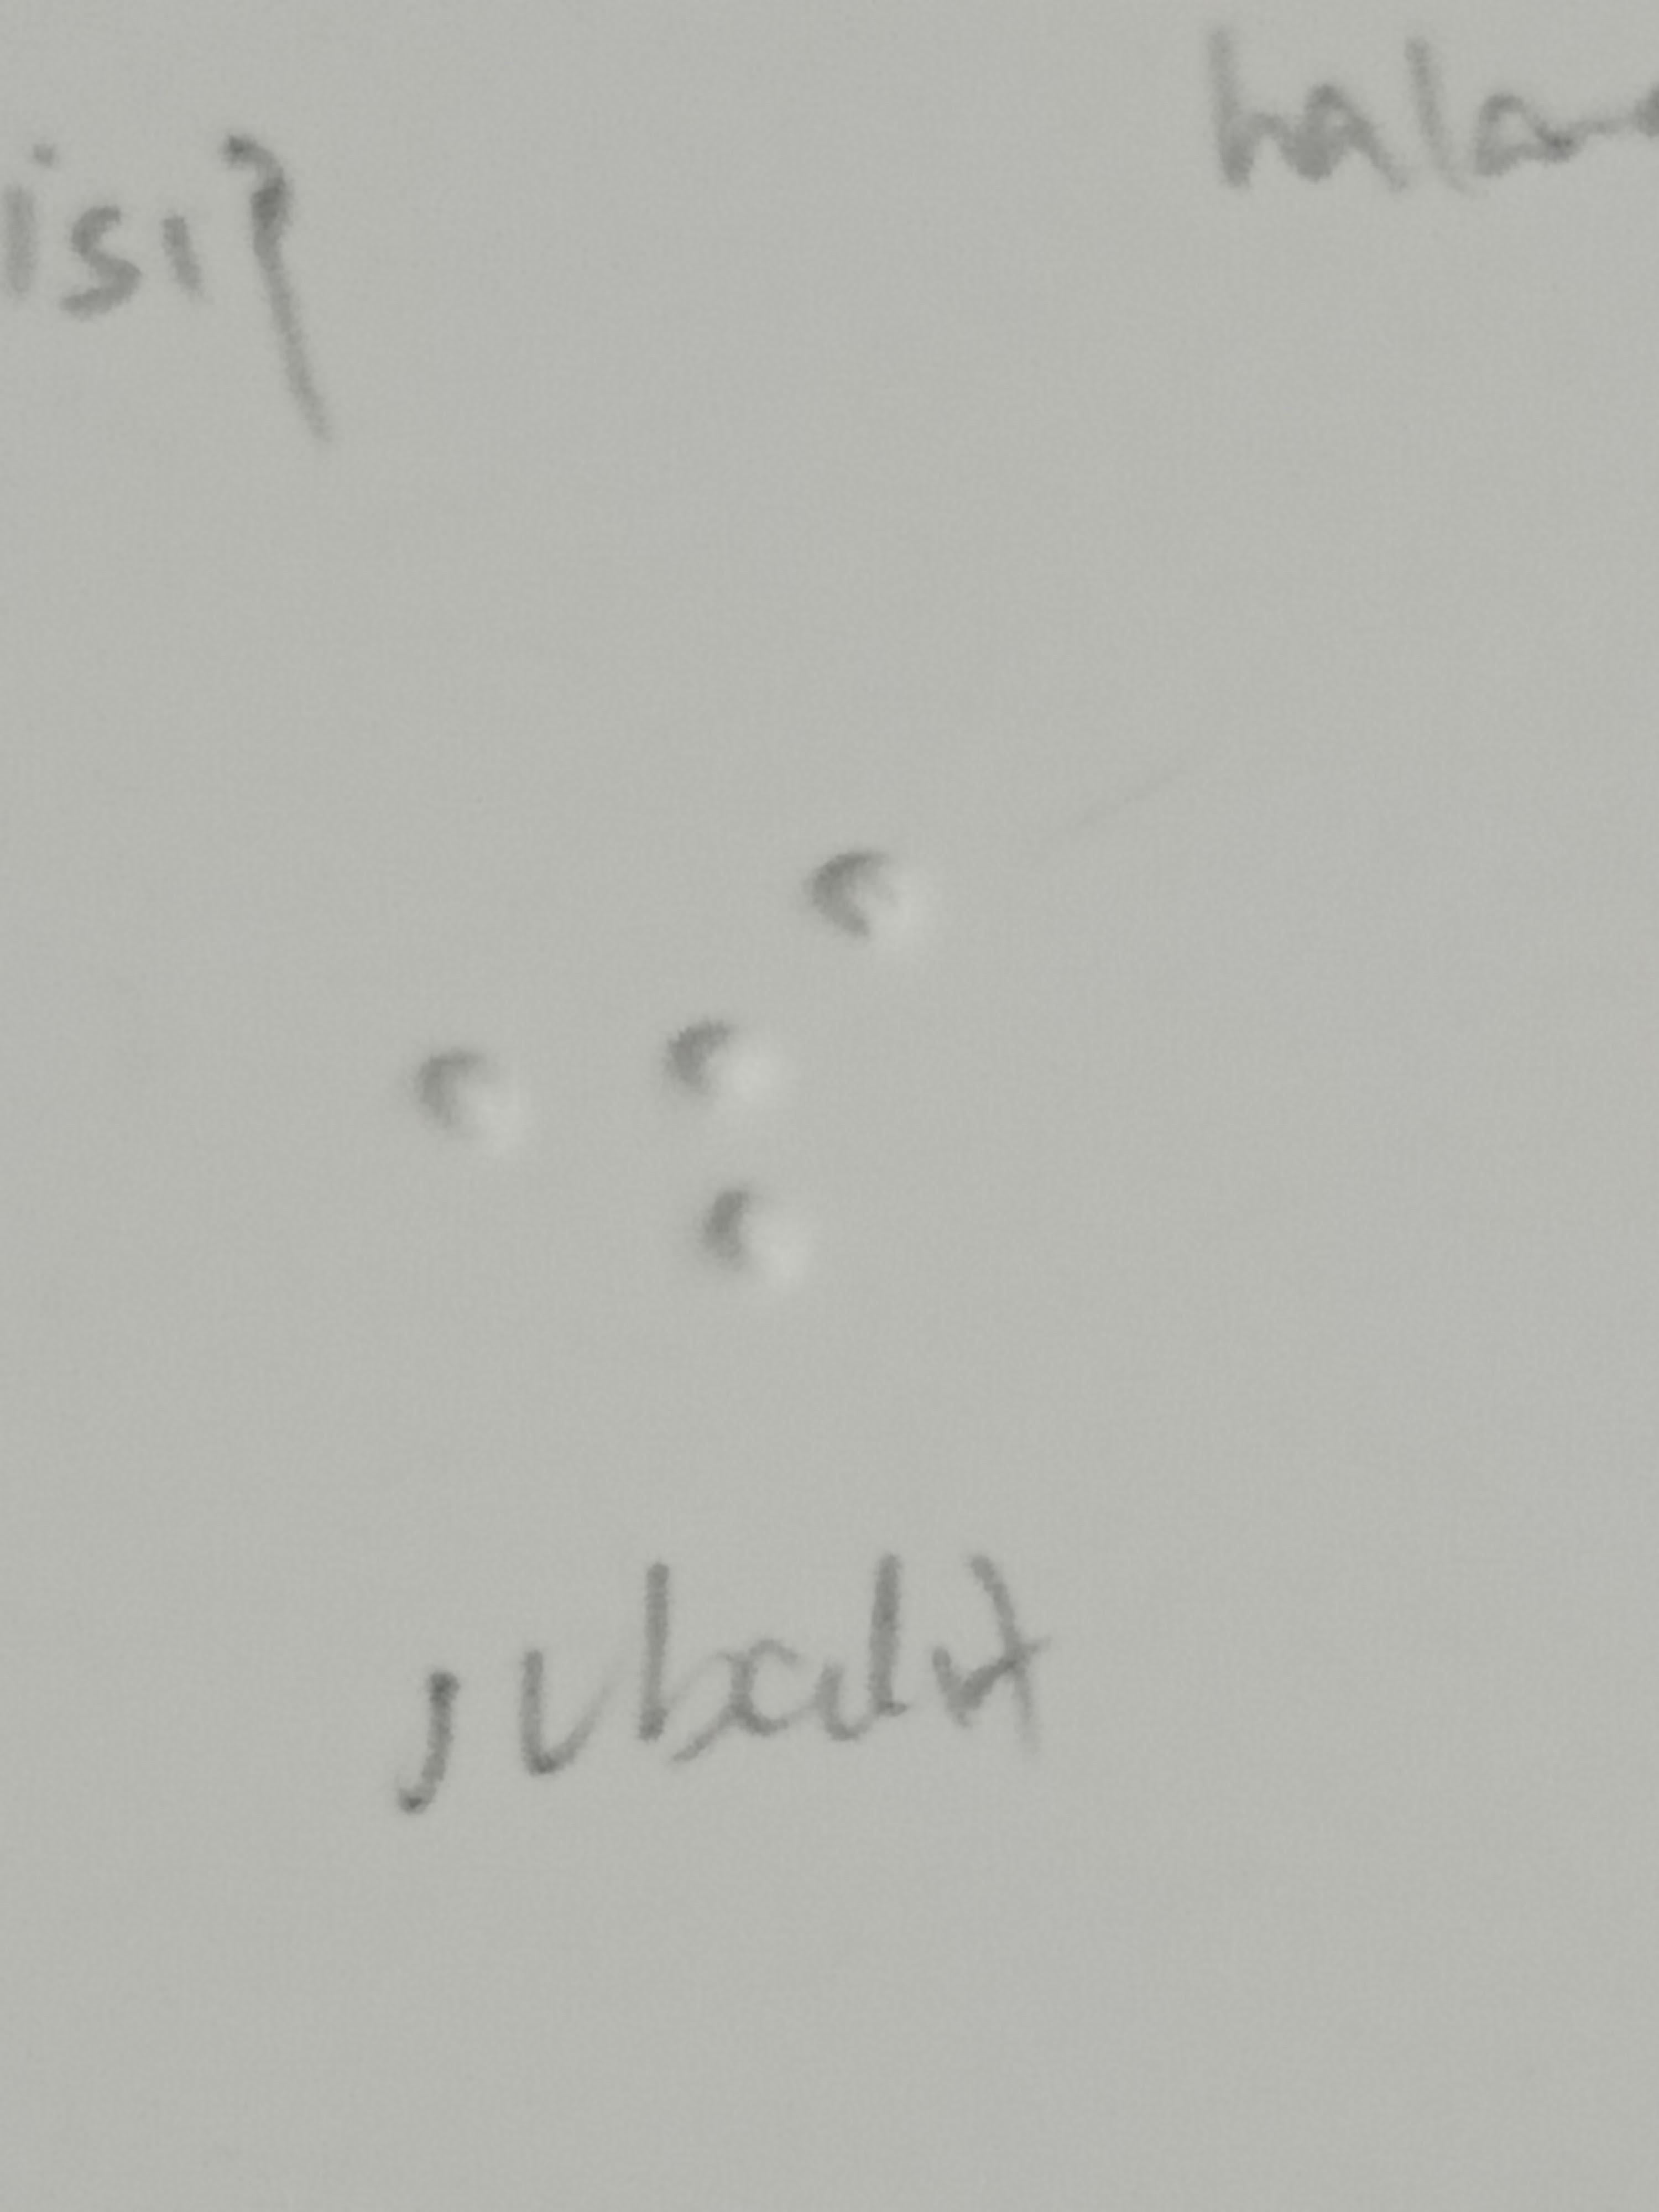dot_5: (261, 852, 518, 1296)
two_cell_alphabet_subalit: (664, 846, 920, 1291)
